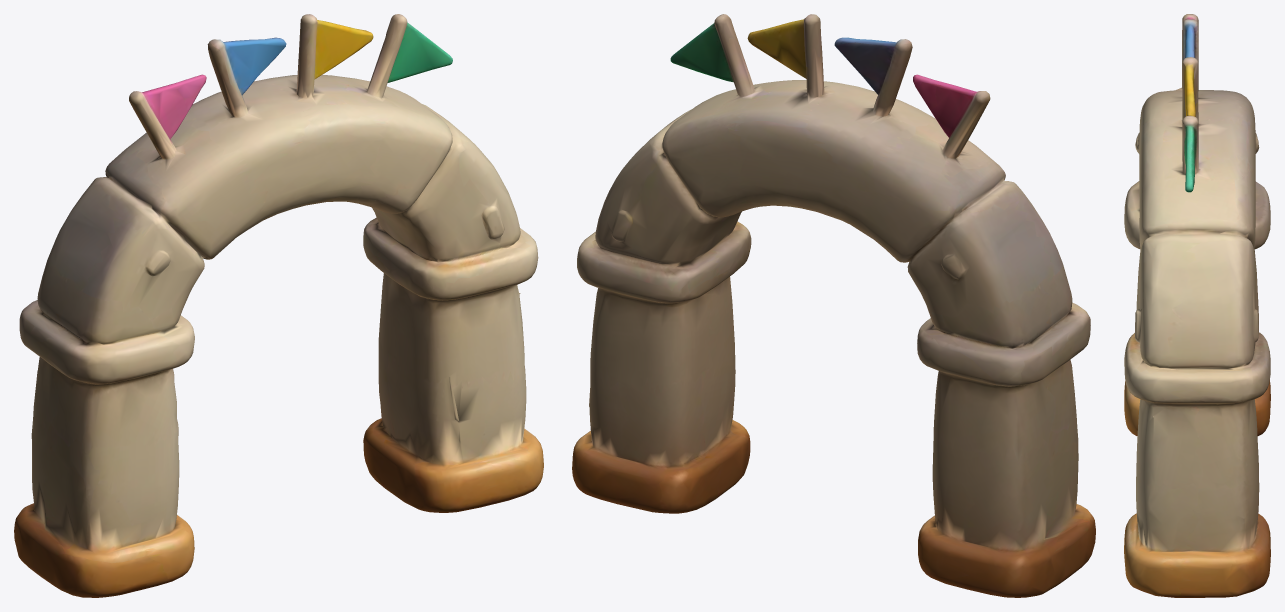
The model's file is games-arch.glb.
The picture shows the model from 3 angles, left to right: view 1: azimuth 30°, elevation 25°; view 2: azimuth 150°, elevation 25°; view 3: azimuth 270°, elevation 25°; orthographic projection. The views are drawn at different scales.
Visible parts, largest first — view 1: tripo_node_06422ea8-2f83-4ea2-8b57-68448f1d8f64; view 2: tripo_node_06422ea8-2f83-4ea2-8b57-68448f1d8f64; view 3: tripo_node_06422ea8-2f83-4ea2-8b57-68448f1d8f64.
Part boxes in pixels (x1,y1,x2,y2): tripo_node_06422ea8-2f83-4ea2-8b57-68448f1d8f64: (14,14,543,597); tripo_node_06422ea8-2f83-4ea2-8b57-68448f1d8f64: (572,14,1095,597); tripo_node_06422ea8-2f83-4ea2-8b57-68448f1d8f64: (1124,14,1270,597).
Bounding box in the file's own units: 0.9946 × 1 × 0.295.
Materials: 1 (1 with a texture image).
